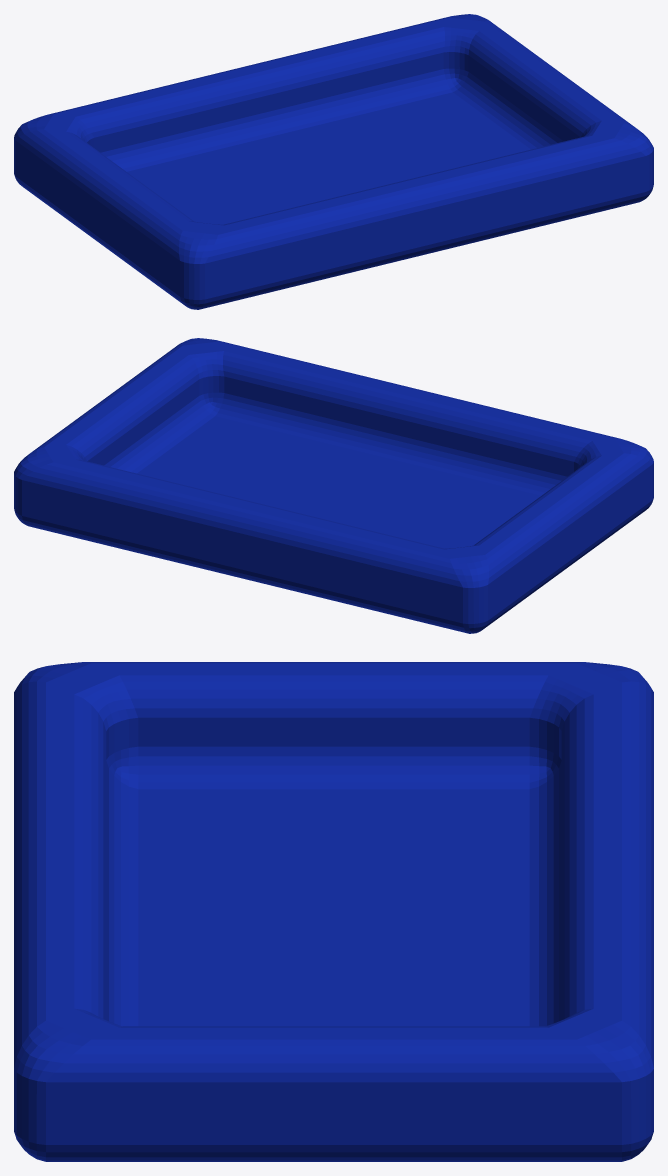
File: ScreenBorder.fbx
3 views of the same model, one above another, from view 1: azimuth 30°, elevation 25°; view 2: azimuth 150°, elevation 25°; view 3: azimuth 270°, elevation 25° (orthographic). The views are drawn at different scales.
Visible parts, largest first — view 1: Cube; view 2: Cube; view 3: Cube.
Boxes of the visible parts, bbox=[...] form: Cube: bbox=[14, 14, 653, 309]; Cube: bbox=[14, 338, 653, 633]; Cube: bbox=[14, 662, 653, 1161].
Size of the model in its own units: 564 by 78.8 by 378.
